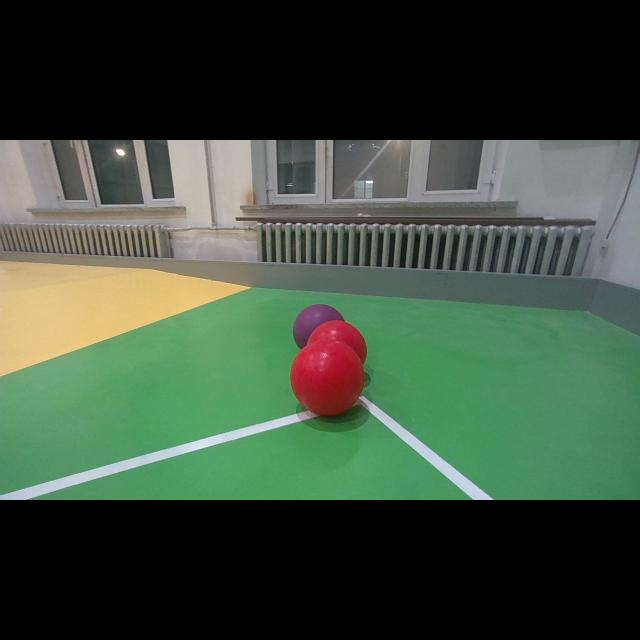P: (292, 296, 344, 344)
R: (291, 338, 365, 416), (307, 316, 365, 364)
